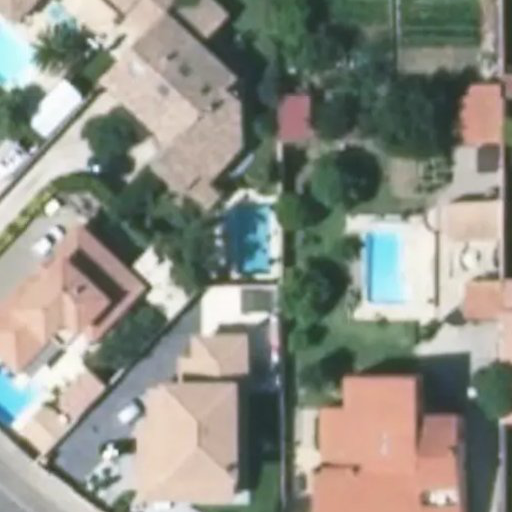pool: (237, 207, 274, 276)
